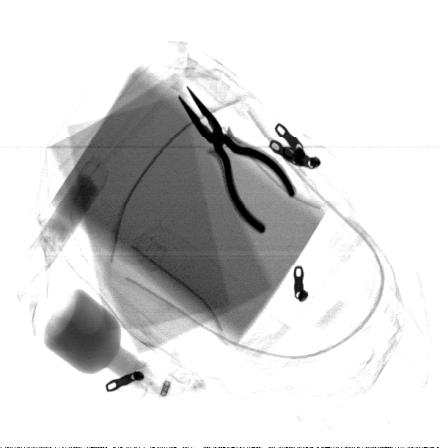Pliers: (176, 83, 298, 236)
